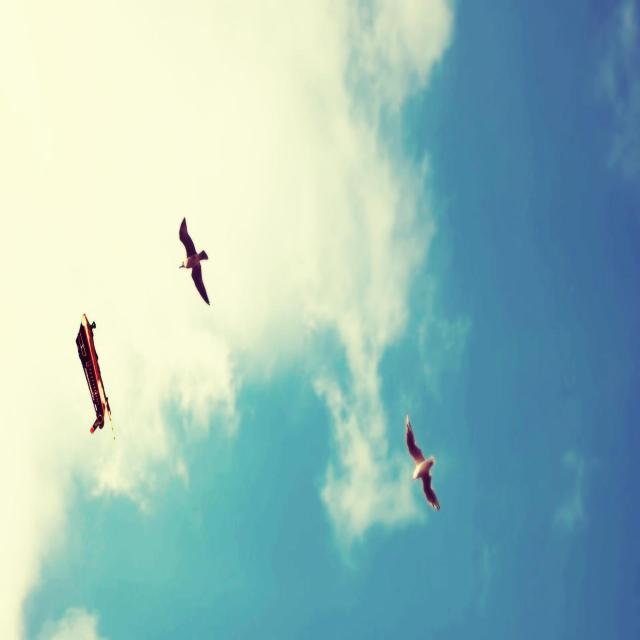airplane: (76, 312, 116, 441)
